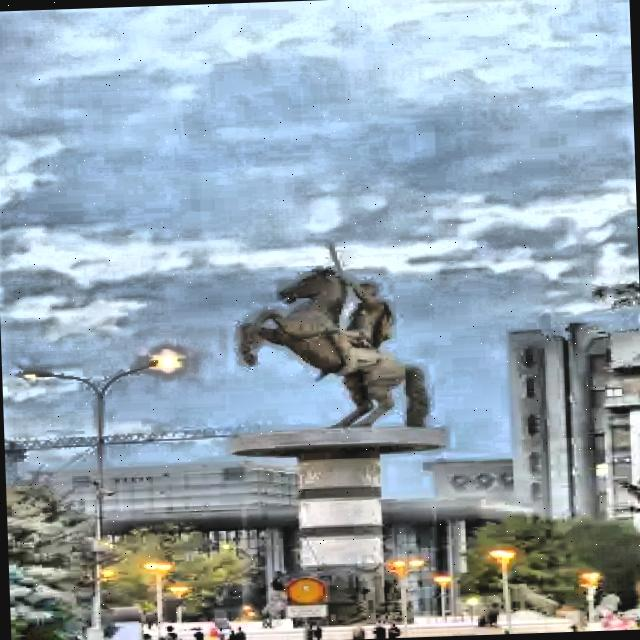alexander the great monument: (252, 237, 439, 634)
